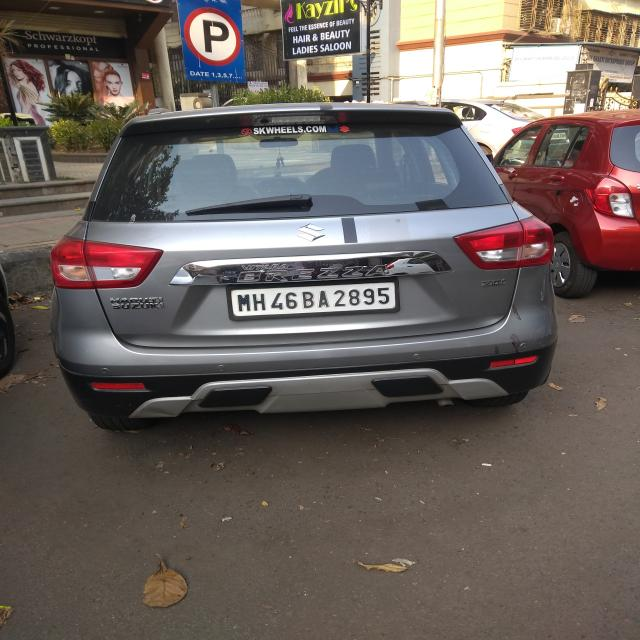Number-Plate: (234, 283, 396, 316)
